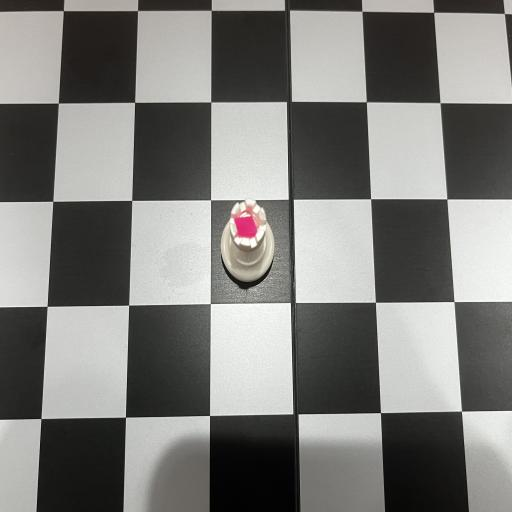White rook: (221, 199, 274, 282)
